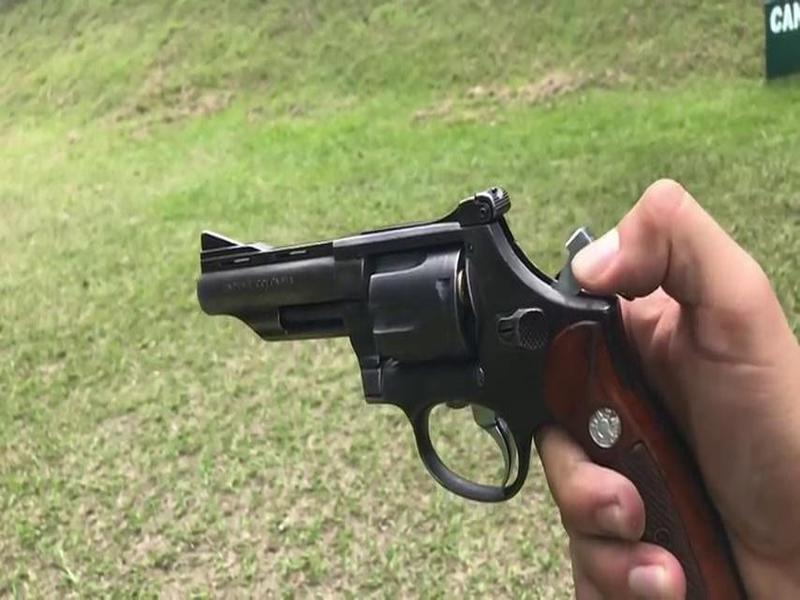Revolver: (179, 159, 697, 563)
